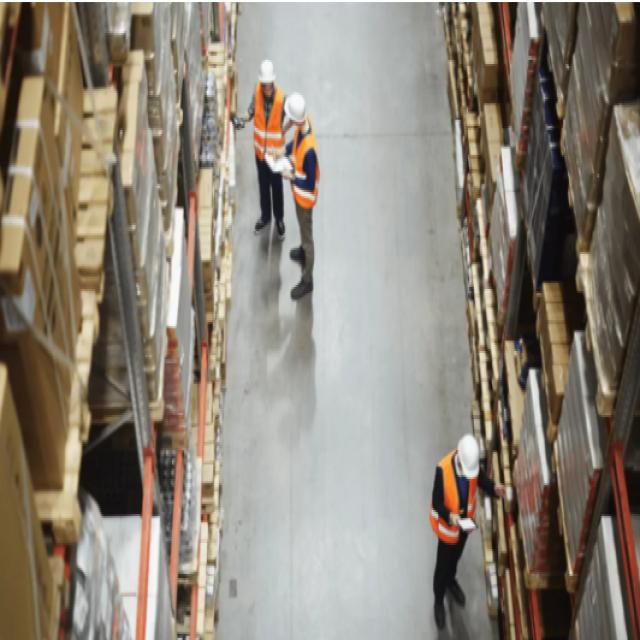hard_hat: (458, 434, 481, 483), (283, 90, 308, 132), (256, 57, 276, 100)
shoes: (428, 577, 467, 631), (290, 244, 315, 304), (255, 205, 288, 240)
vest: (436, 449, 478, 544), (289, 112, 321, 211), (251, 83, 286, 170)
